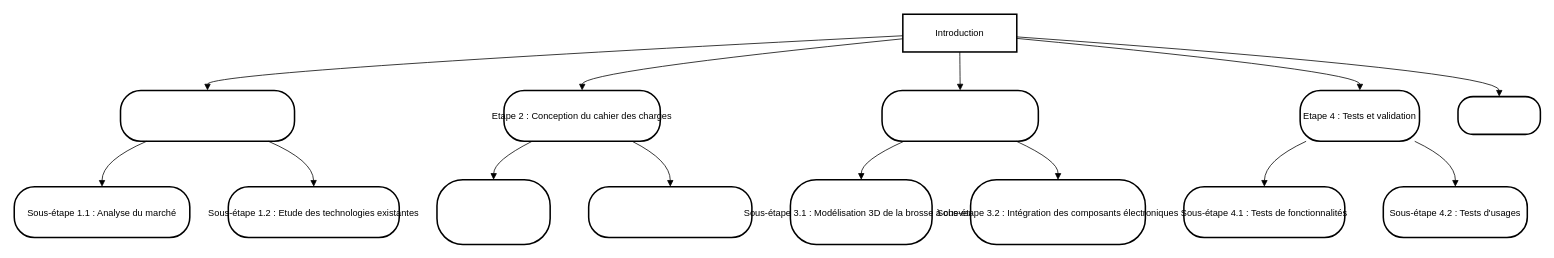
Some shapes in this 1554 by 258 pixel diagram are drawn without their labels. The centre of each missing label's shape, as x and y in pixels:
Conclusion: (x=1499, y=115)
Etape 1 : Identification des besoins: (x=207, y=115)
Etape 3 : Conception du prototype: (x=960, y=115)
Sous-étape 2.1 : Spécifications fonctionnelles: (x=493, y=212)
Sous-étape 2.2 : Spécifications techniques: (x=670, y=212)
